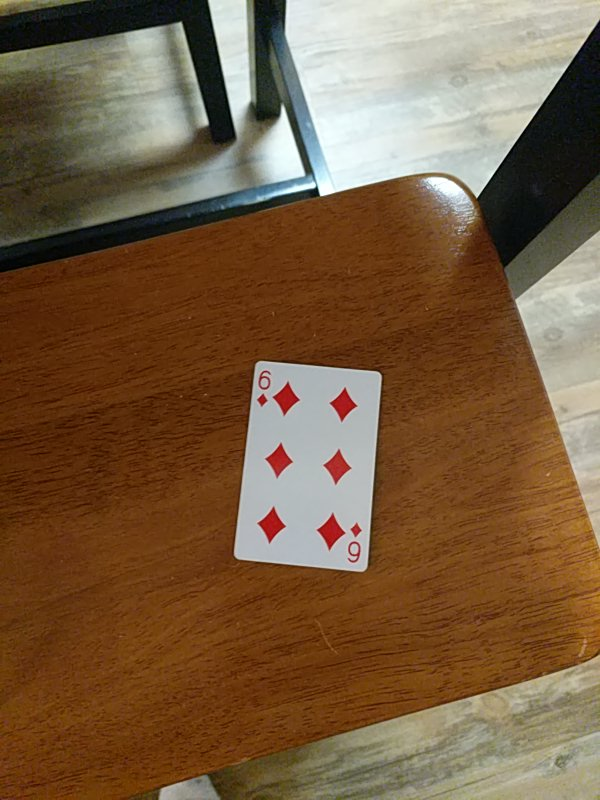Diamonds: (231, 359, 384, 575)
